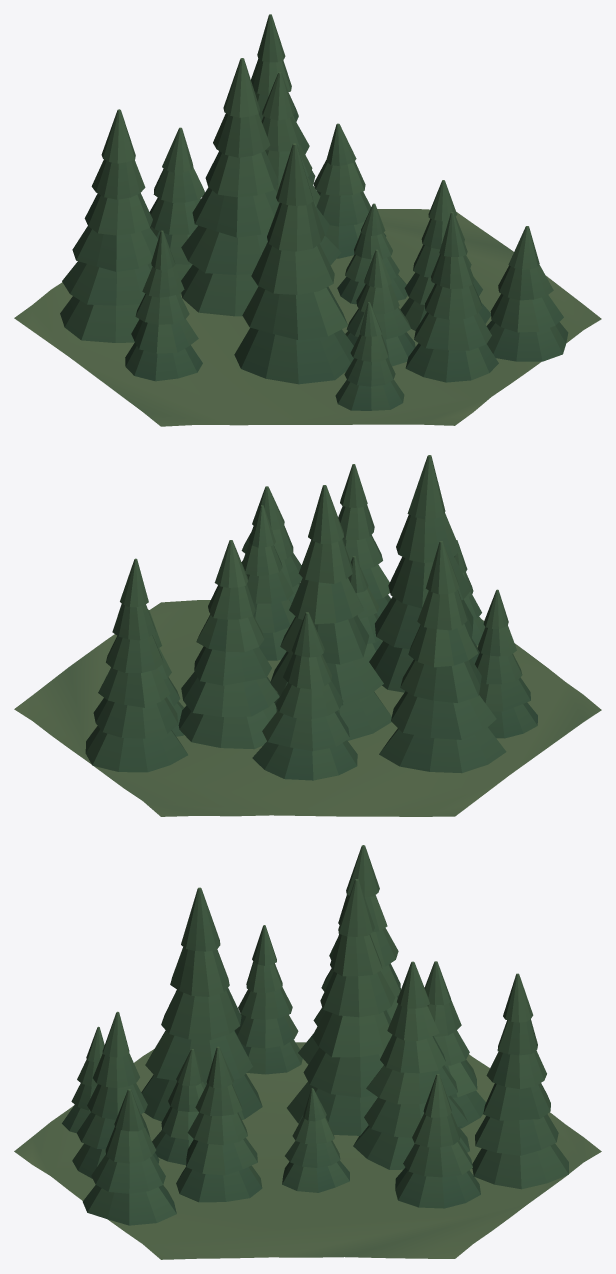
The model's file is terrain_forest.glb.
3 views of the same model, one above another, from view 1: azimuth 30°, elevation 25°; view 2: azimuth 150°, elevation 25°; view 3: azimuth 270°, elevation 25° (orthographic).
Visible parts, largest first — view 1: forest_ground, pine_i08, pine_i06, pine_i14, pine_i07, pine_i12, pine_i02, pine_i03, pine_i10, pine_i11, pine_i13, pine_i05 (+3 smaller); view 2: forest_ground, pine_i14, pine_i05, pine_i06, pine_i09, pine_i10, pine_i08, pine_i02, pine_i04, pine_i07, pine_i12, pine_i13 (+2 smaller); view 3: forest_ground, pine_i06, pine_i08, pine_i09, pine_i05, pine_i04, pine_i12, pine_i03, pine_i02, pine_i07, pine_i01, pine_i10 (+3 smaller).
Part boxes in pixels (x1=…): forest_ground: x1=14, y1=209, x2=601, y2=426; pine_i08: x1=234, y1=143, x2=353, y2=384; pine_i06: x1=181, y1=58, x2=279, y2=316; pine_i14: x1=60, y1=109, x2=158, y2=342; pine_i07: x1=405, y1=212, x2=498, y2=382; pine_i12: x1=486, y1=226, x2=568, y2=361; pine_i02: x1=125, y1=230, x2=202, y2=381; pine_i03: x1=313, y1=123, x2=386, y2=258; pine_i10: x1=149, y1=127, x2=204, y2=294; pine_i11: x1=335, y1=302, x2=404, y2=410; pine_i13: x1=345, y1=249, x2=415, y2=366; pine_i05: x1=261, y1=72, x2=341, y2=265; forest_ground: x1=14, y1=600, x2=601, y2=816; pine_i14: x1=379, y1=541, x2=506, y2=773; pine_i05: x1=178, y1=540, x2=279, y2=749; pine_i06: x1=270, y1=485, x2=391, y2=740; pine_i09: x1=85, y1=558, x2=187, y2=772; pine_i10: x1=252, y1=612, x2=357, y2=780; pine_i08: x1=369, y1=455, x2=479, y2=692; pine_i02: x1=475, y1=589, x2=537, y2=738; pine_i04: x1=242, y1=505, x2=295, y2=660; pine_i07: x1=338, y1=464, x2=390, y2=616; pine_i12: x1=241, y1=486, x2=302, y2=603; pine_i13: x1=348, y1=556, x2=382, y2=661; forest_ground: x1=14, y1=1042, x2=601, y2=1259; pine_i06: x1=287, y1=879, x2=395, y2=1135; pine_i08: x1=141, y1=887, x2=262, y2=1121; pine_i09: x1=472, y1=973, x2=568, y2=1189; pine_i05: x1=353, y1=961, x2=469, y2=1169; pine_i04: x1=176, y1=1046, x2=262, y2=1202; pine_i12: x1=82, y1=1089, x2=176, y2=1225; pine_i03: x1=395, y1=1074, x2=480, y2=1208; pine_i02: x1=234, y1=925, x2=302, y2=1074; pine_i07: x1=72, y1=1011, x2=159, y2=1178; pine_i01: x1=282, y1=1088, x2=349, y2=1192; pine_i10: x1=424, y1=961, x2=485, y2=1128.
Bounding box in the file's own units: 1.52 × 0.8336 × 1.76.
